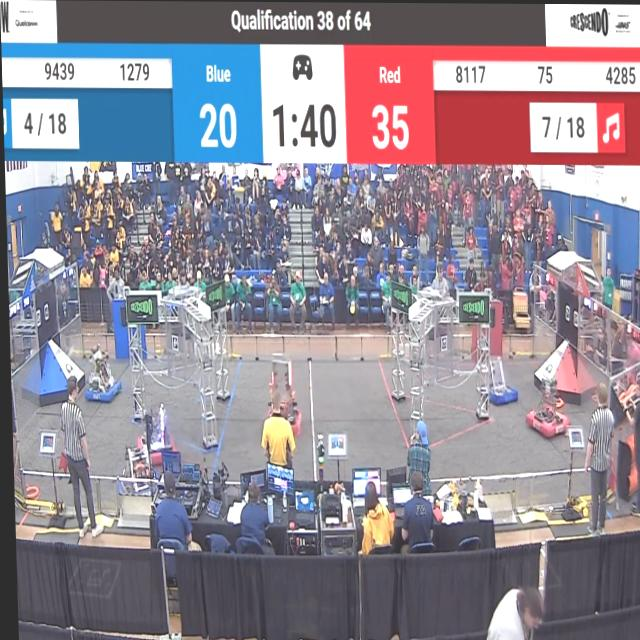Robot: (523, 373, 569, 442), (134, 397, 177, 470), (263, 354, 298, 428), (79, 343, 117, 407), (112, 439, 150, 501), (482, 352, 516, 412)
